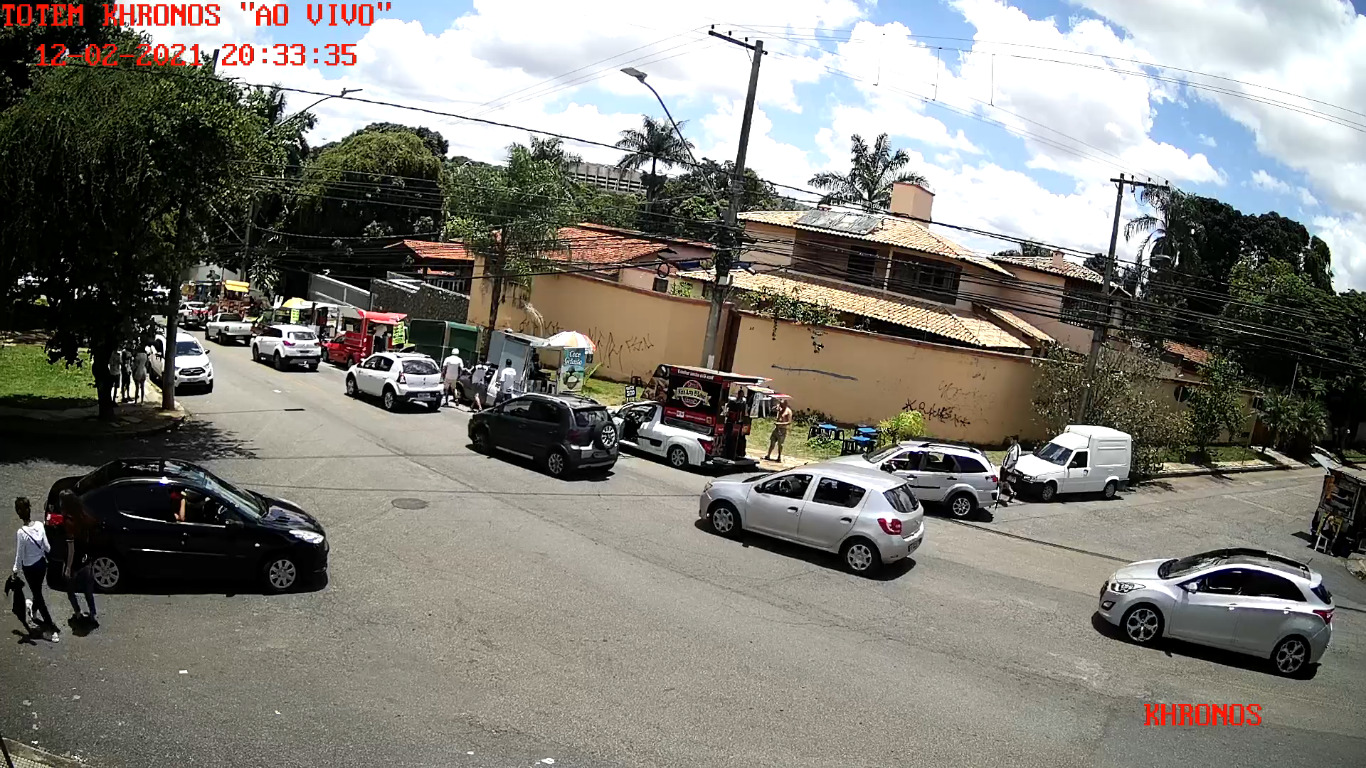car: (43, 455, 328, 588), (1098, 547, 1334, 676), (698, 461, 925, 575), (468, 391, 619, 479)
